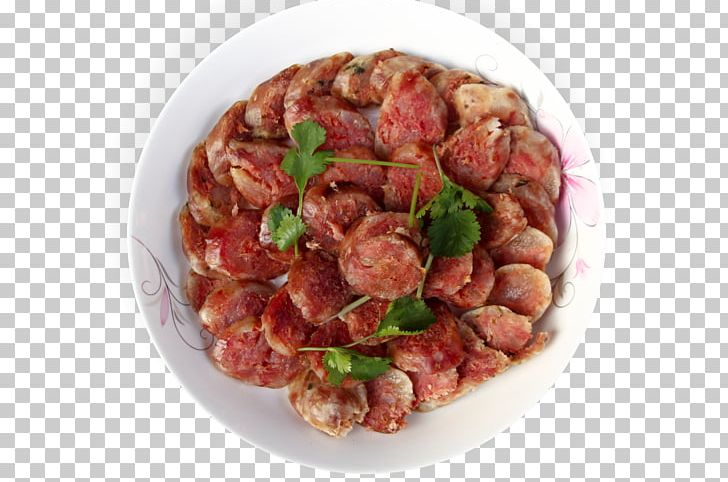chinese_sausage: (220, 324, 298, 386), (355, 366, 416, 434), (293, 370, 364, 428), (339, 240, 419, 291), (377, 75, 434, 144), (504, 137, 566, 199), (209, 214, 278, 268), (306, 186, 372, 239), (448, 116, 503, 179), (263, 292, 323, 349), (201, 283, 276, 328), (276, 55, 337, 110), (176, 145, 223, 216), (445, 330, 504, 386), (292, 260, 349, 317), (457, 303, 534, 345), (465, 190, 525, 242), (498, 223, 554, 277), (499, 180, 556, 233), (230, 144, 286, 197), (399, 358, 461, 405), (340, 214, 418, 251), (458, 78, 513, 130), (293, 104, 361, 145), (492, 266, 547, 316), (180, 220, 224, 271), (405, 310, 448, 362), (332, 44, 377, 93), (327, 149, 384, 185), (430, 68, 475, 112), (254, 74, 289, 127), (207, 113, 240, 169), (426, 250, 473, 287), (402, 154, 439, 201), (258, 196, 291, 248), (347, 300, 390, 339), (464, 257, 495, 311), (187, 179, 232, 209), (378, 51, 407, 90), (181, 271, 222, 298)
